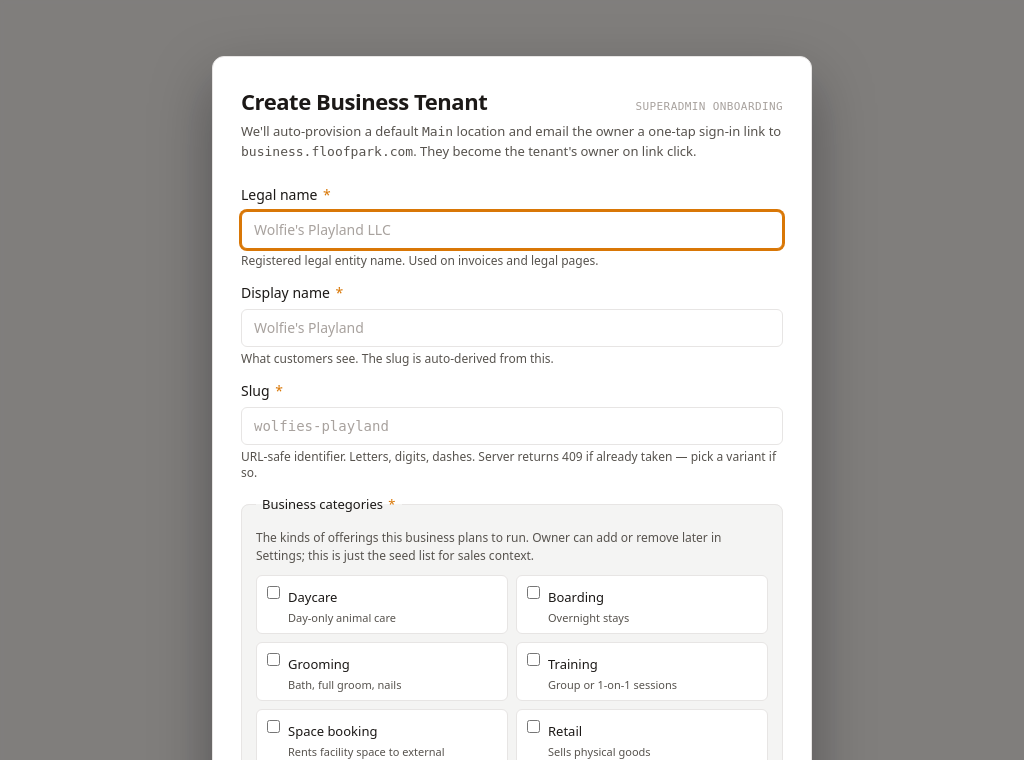
Test: rejects email over 36 chars (users.id cap)
In the field labelled "Legal name *": (512, 230) [241, 211, 783, 249], type "Acme LLC"
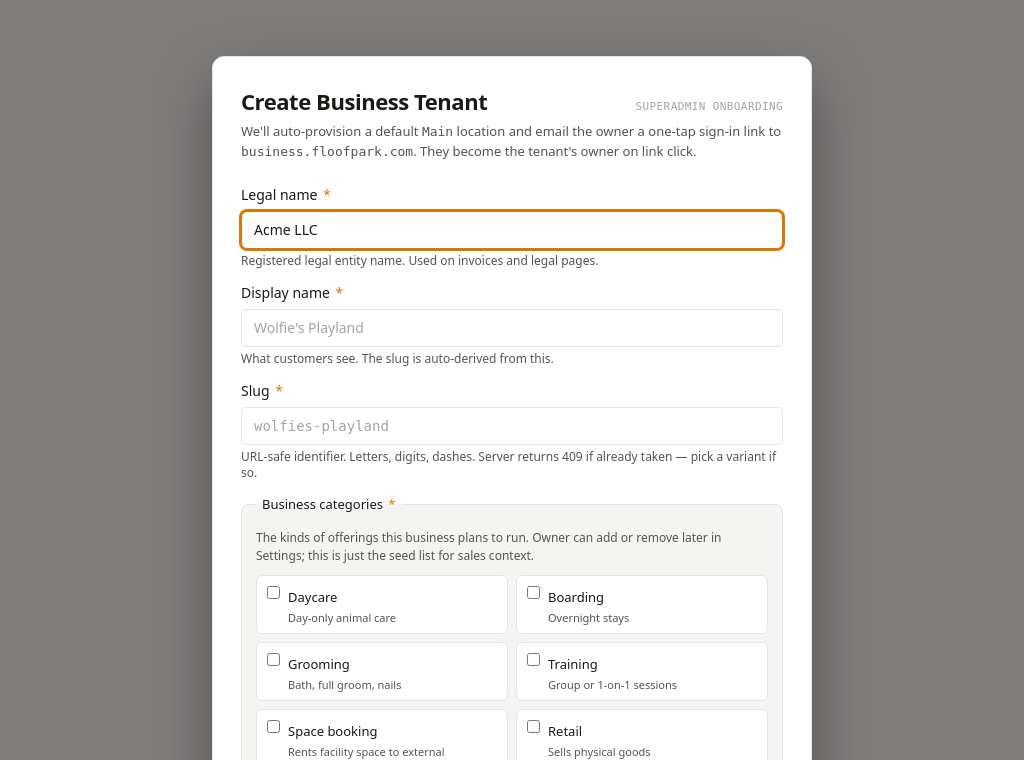
In the field labelled "Display name *": (512, 328) [241, 309, 783, 347], type "Acme"
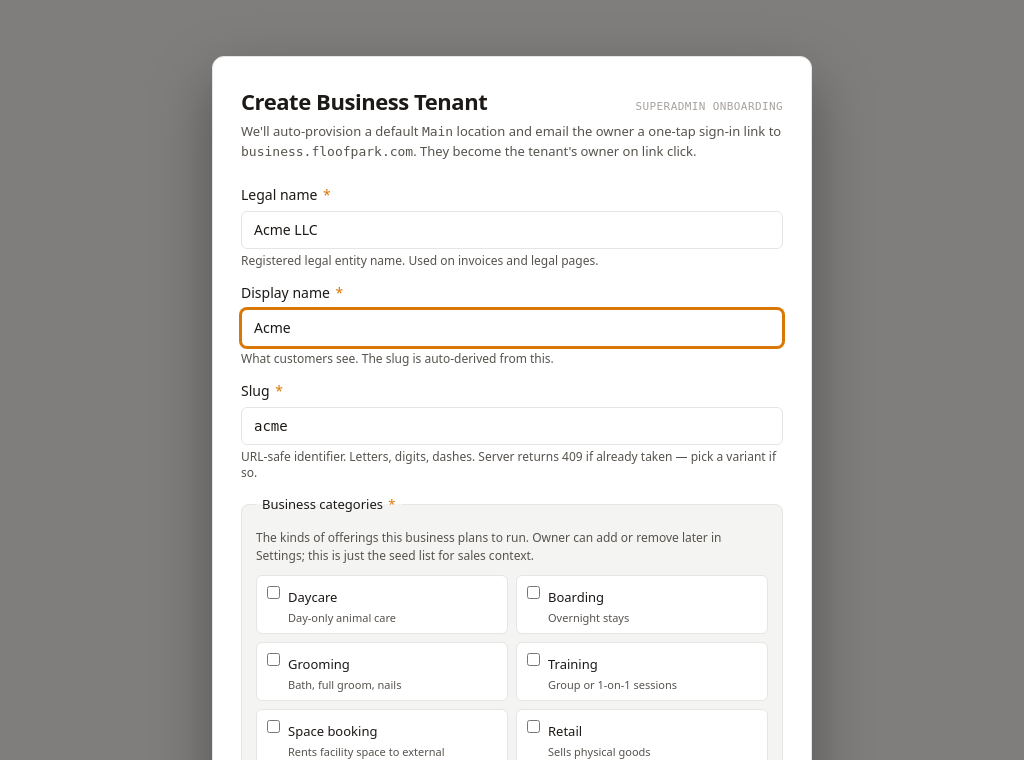
# slug auto-derives
Click the checkbox labelled "Daycare Day-only animal care": (274, 592) [267, 586, 280, 598]
(page scrolled)
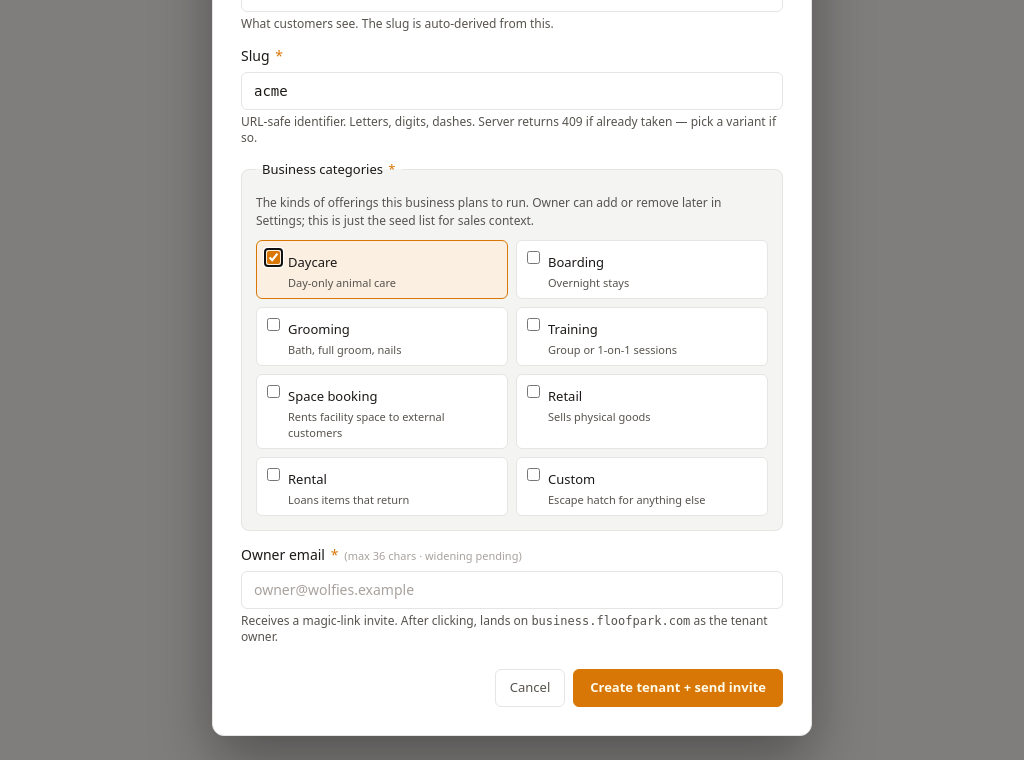
In the field labelled "Owner email *(max 36 chars · widening pending)": (512, 590) [241, 572, 783, 610], type "way-too-long-email-37chars-aaaa@example.com"
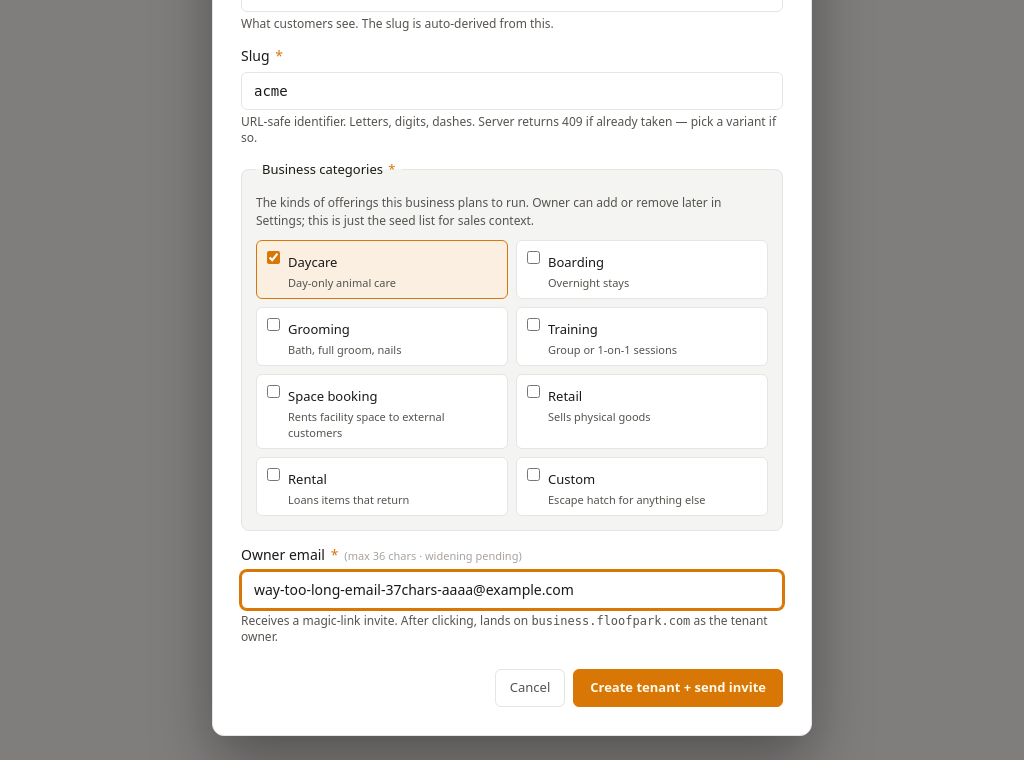
Click the button "Create tenant + send invite": (678, 688) [573, 670, 783, 707]
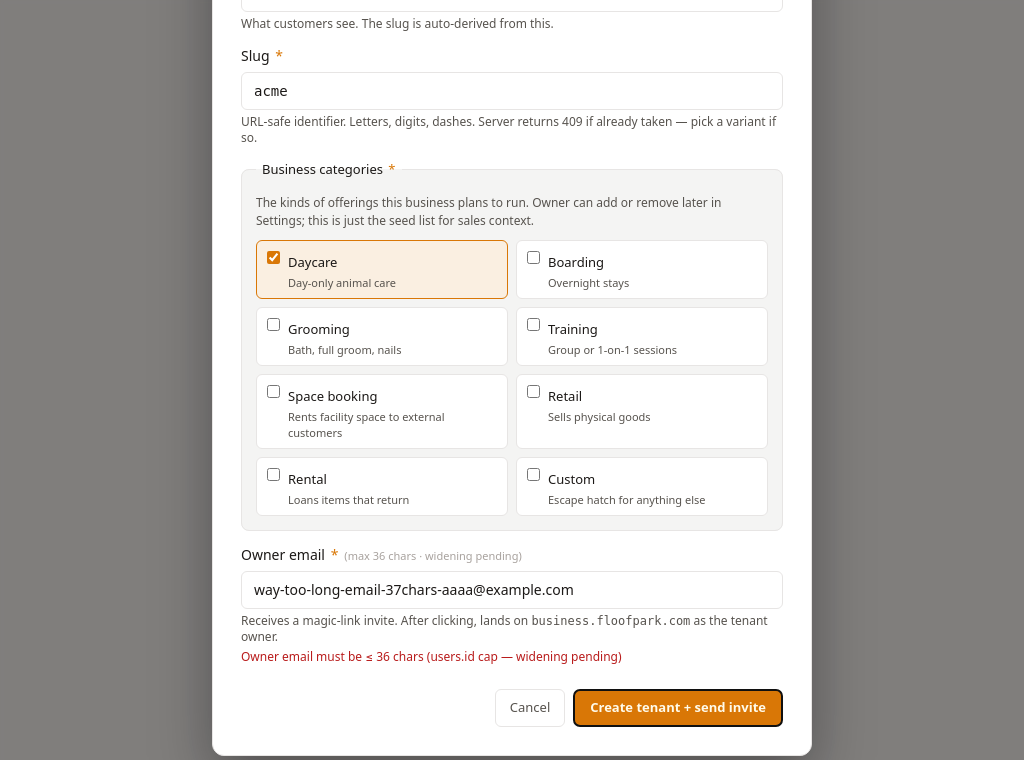
Now the text "Owner email must be ≤ 36 chars (users.id cap — widening pending)" is shown, box [241, 648, 622, 666]
